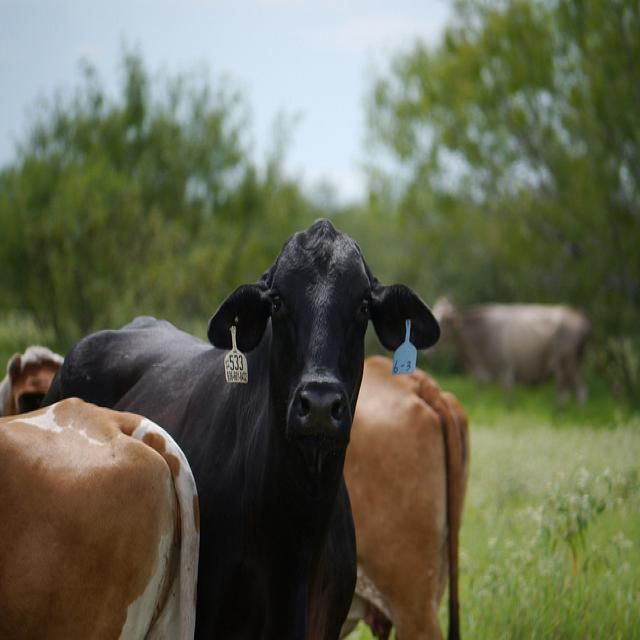cow: (21, 210, 451, 639), (0, 342, 470, 631), (0, 401, 193, 632), (434, 295, 621, 402)
